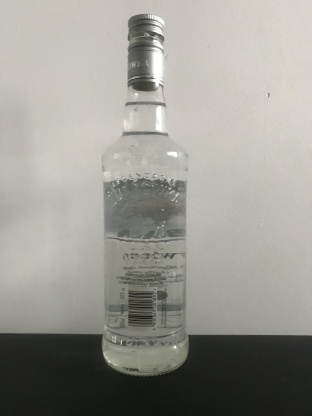nakretka: (126, 12, 165, 91)
